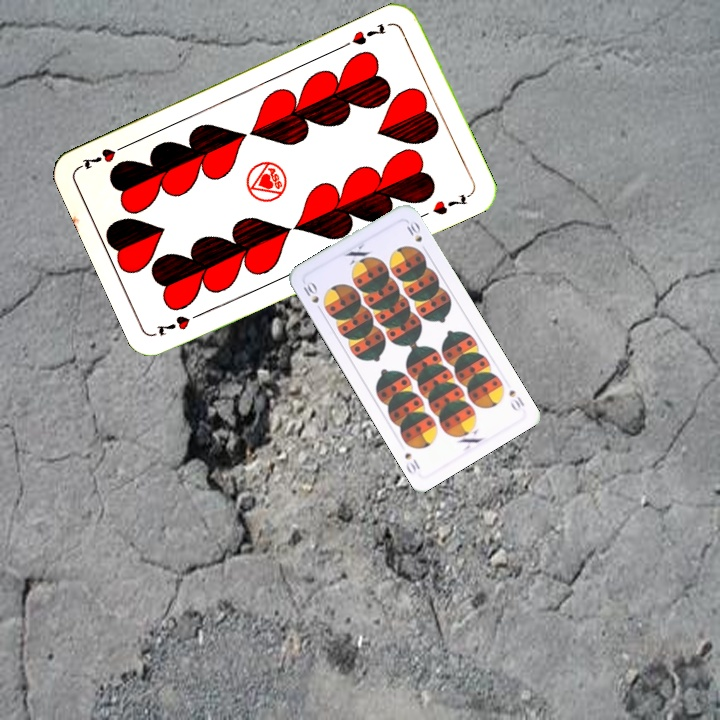H7: (153, 307, 207, 338), (347, 19, 389, 48)
S10: (298, 277, 325, 315), (505, 386, 527, 414)
